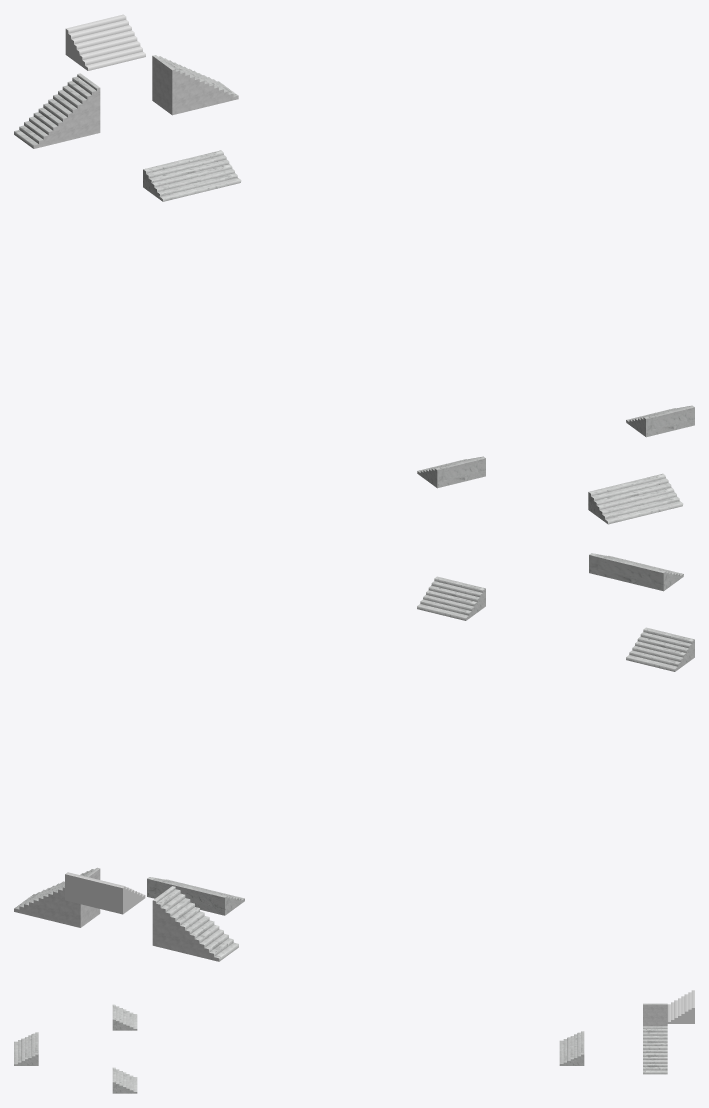
File: Staircase.fbx
The picture shows the model from 3 angles, top to bottom: view 1: azimuth 30°, elevation 25°; view 2: azimuth 150°, elevation 25°; view 3: azimuth 270°, elevation 25°; orthographic projection. The views are drawn at different scales.
Parts seen in each view (by area): view 1: Large_Staircase, Small_Staricase_2, Large_Staircase_1, Large_Staircase_2_2, Small_Staricase_3, Small_Staricase_2_2, Small_Staricase; view 2: Large_Staircase, Large_Staircase_2_2, Small_Staricase_2_2, Small_Staricase, Large_Staircase_1, Small_Staricase_3, Small_Staricase_2; view 3: Large_Staircase_2_2, Small_Staricase_2, Large_Staircase_1, Small_Staricase_3, Large_Staircase, Small_Staricase_2_2, Small_Staricase.
Boxes of the visible parts, x1,y1,x2,y2 form: Large_Staircase: (14, 73, 100, 148); Small_Staricase_2: (143, 150, 241, 201); Large_Staircase_1: (65, 14, 145, 70); Large_Staircase_2_2: (152, 55, 238, 115); Small_Staricase_3: (588, 473, 683, 524); Small_Staricase_2_2: (626, 405, 694, 437); Small_Staricase: (417, 456, 485, 488); Large_Staircase: (152, 886, 238, 961); Large_Staircase_2_2: (14, 867, 100, 927); Small_Staricase_2_2: (417, 576, 485, 620); Small_Staricase: (626, 627, 694, 671); Large_Staircase_1: (65, 872, 145, 914); Small_Staricase_3: (589, 553, 683, 591); Small_Staricase_2: (147, 877, 244, 915); Large_Staircase_2_2: (643, 1026, 667, 1074); Small_Staricase_2: (559, 1031, 584, 1065); Large_Staircase_1: (667, 990, 694, 1023); Small_Staricase_3: (14, 1032, 38, 1065); Large_Staircase: (643, 1003, 667, 1026); Small_Staricase_2_2: (112, 1067, 137, 1093); Small_Staricase: (112, 1004, 137, 1030).
Bounding box in the file's own units: 1496 × 500 × 5538.
Materials: 8 (8 with a texture image).
